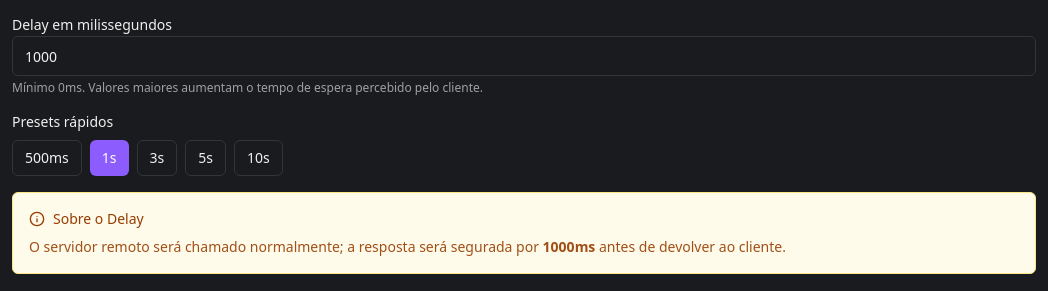
Test: DelayActionEditor — validação rejeita valores inválidos › mostra erro quando o valor tem decimais (não inteiro)
The width and height of the screenshot is (1048, 291).
Type "1.5" into the number field with test id "delay-action-time-input" at (524, 56), box left=12, top=36, right=1036, bottom=76
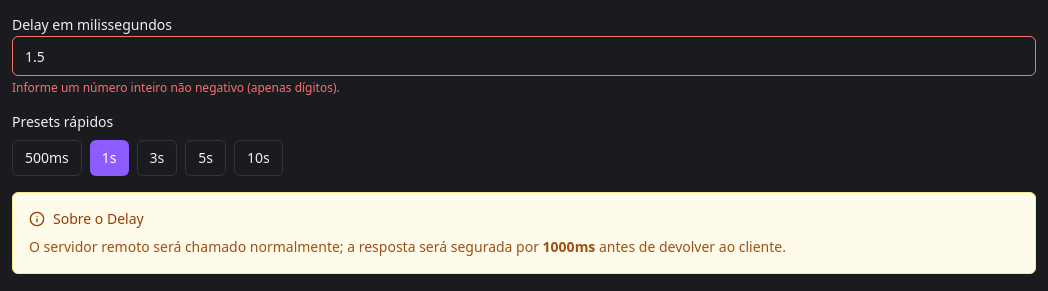
Expected: the text "Informe um número inteiro não negativo (apenas dígitos)." is shown, left=12, top=79, right=340, bottom=96
